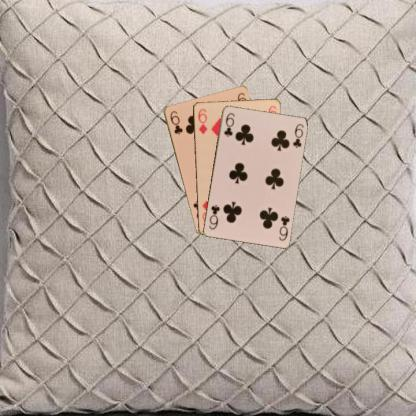6c: (276, 212, 291, 242), (168, 108, 184, 136), (221, 110, 236, 138)
6d: (195, 107, 208, 136)
